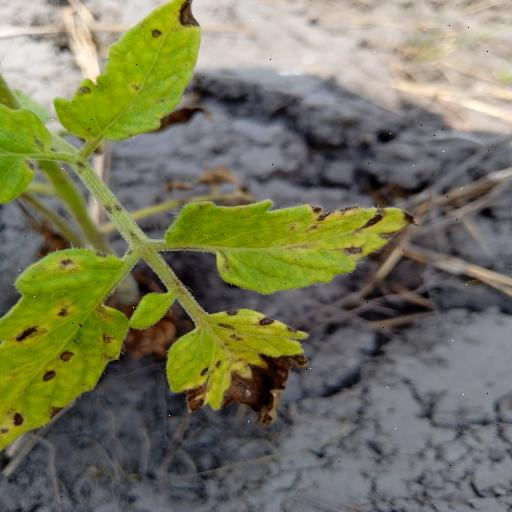Tomato_Brown_Spots: (51, 0, 229, 155), (156, 194, 408, 296), (162, 302, 314, 434)
